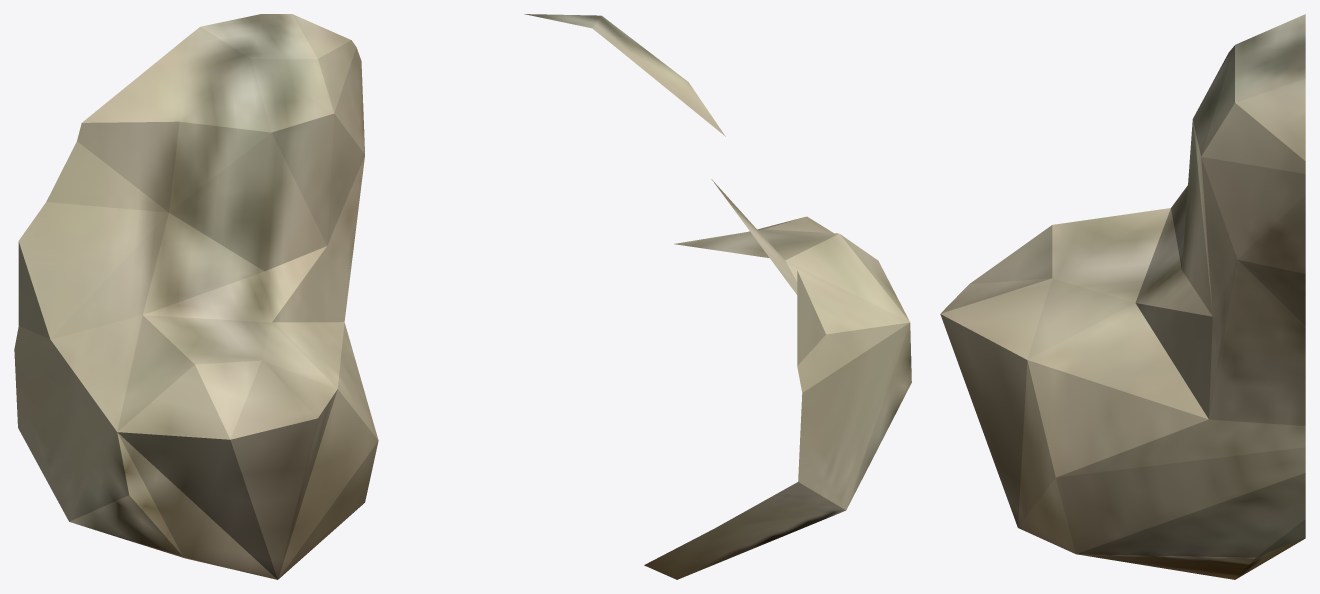
The picture shows the model from 3 angles, left to right: view 1: azimuth 30°, elevation 25°; view 2: azimuth 150°, elevation 25°; view 3: azimuth 270°, elevation 25°; orthographic projection. The views are drawn at different scales.
Bounding box in the file's own units: 0.0988 × 0.1348 × 0.0754.
1 material, 1 textured.
